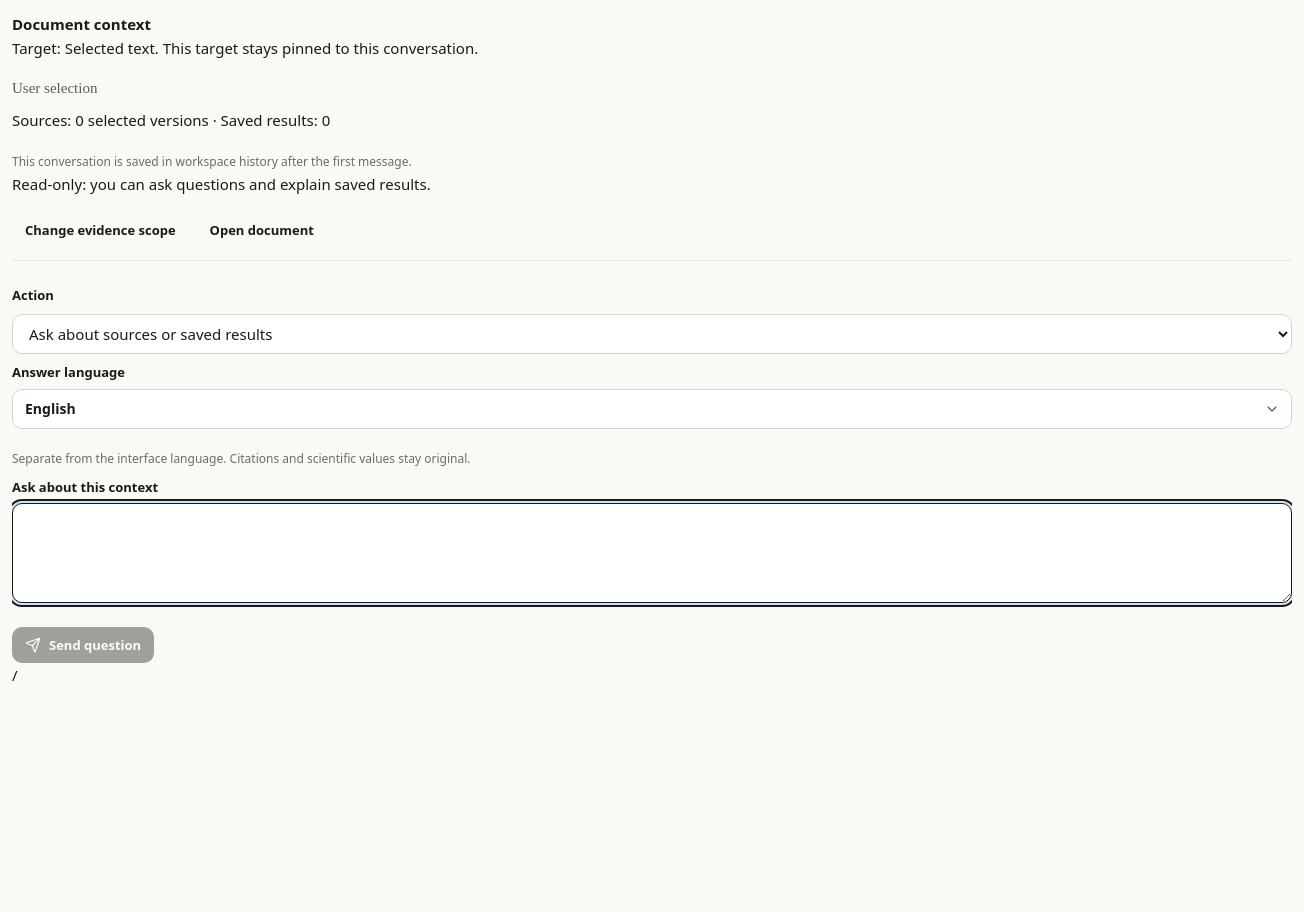
Scenario: reserves one first turn, disables duplicate sends, observes history and cancels explicitly
The image size is (1304, 912).
Step 1. Type "Explain" into the text box labelled "Ask about this context" → (652, 553), box [12, 503, 1292, 603]
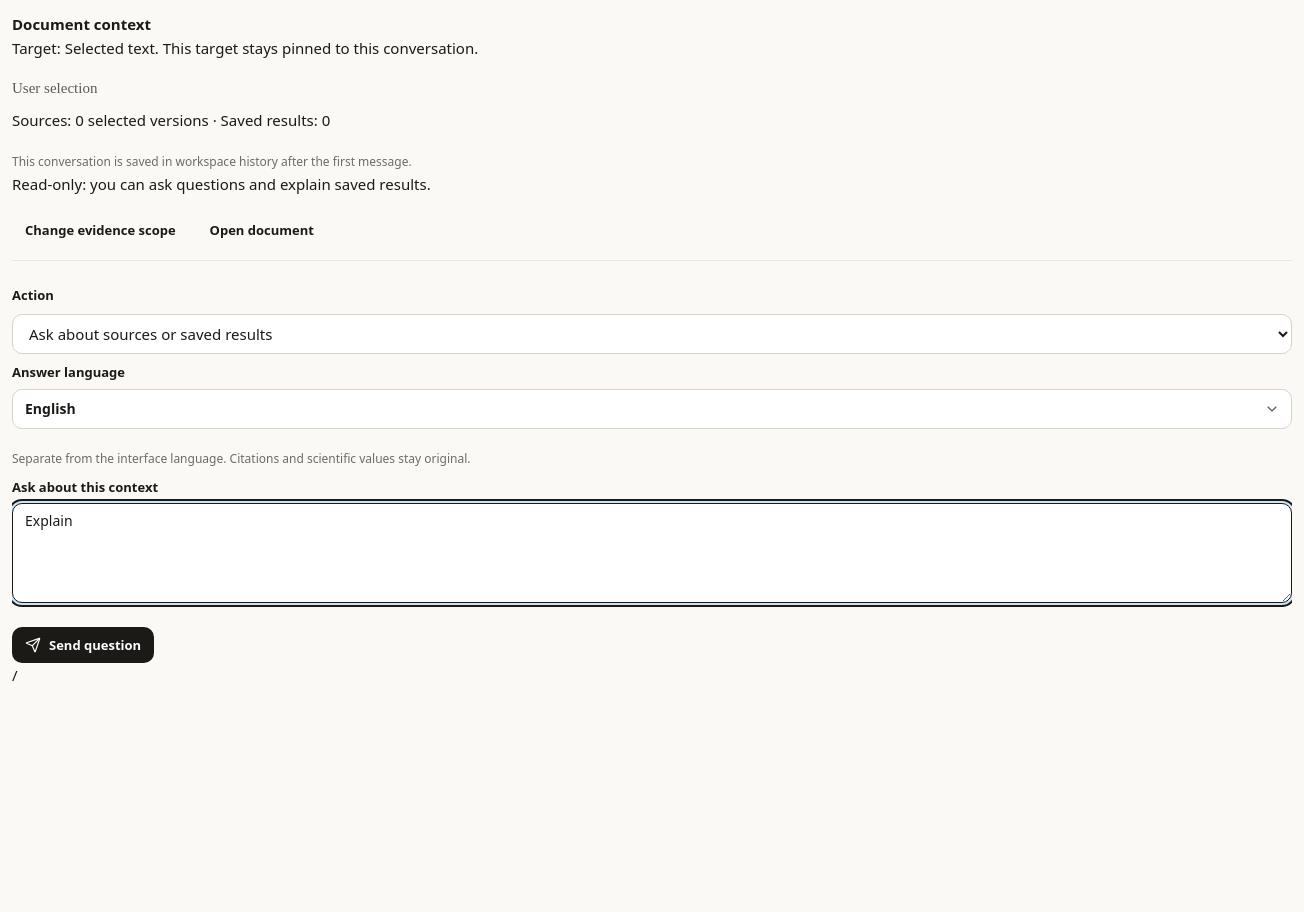
Step 2. Click the button "Send question" → click(83, 645), box [12, 627, 154, 663]
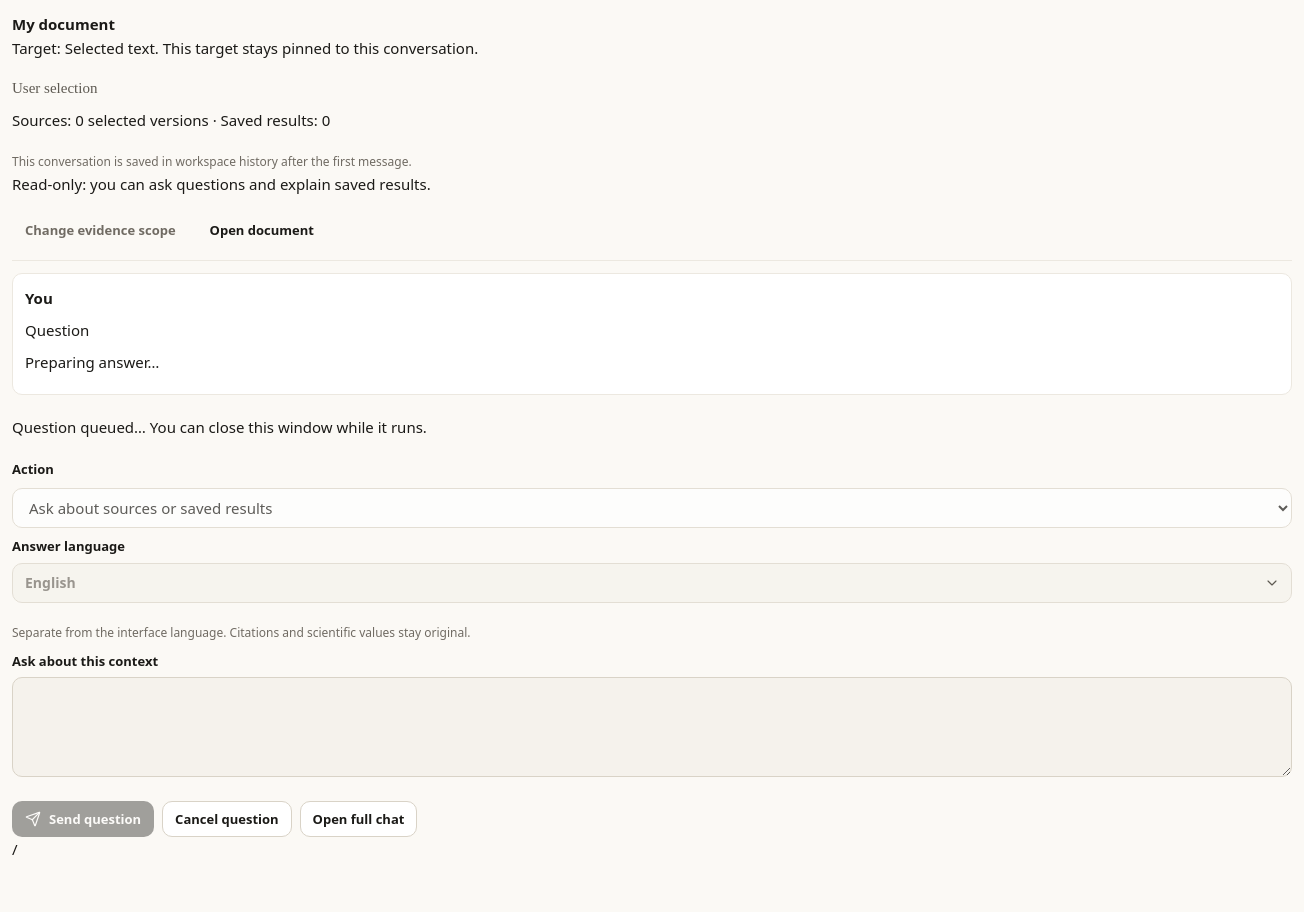
Check: the button "Cancel question" is shown
Check: the button "Send question" is disabled, box [12, 801, 154, 837]
Step 3. Click the button "Cancel question" → click(227, 819), box [162, 801, 292, 837]
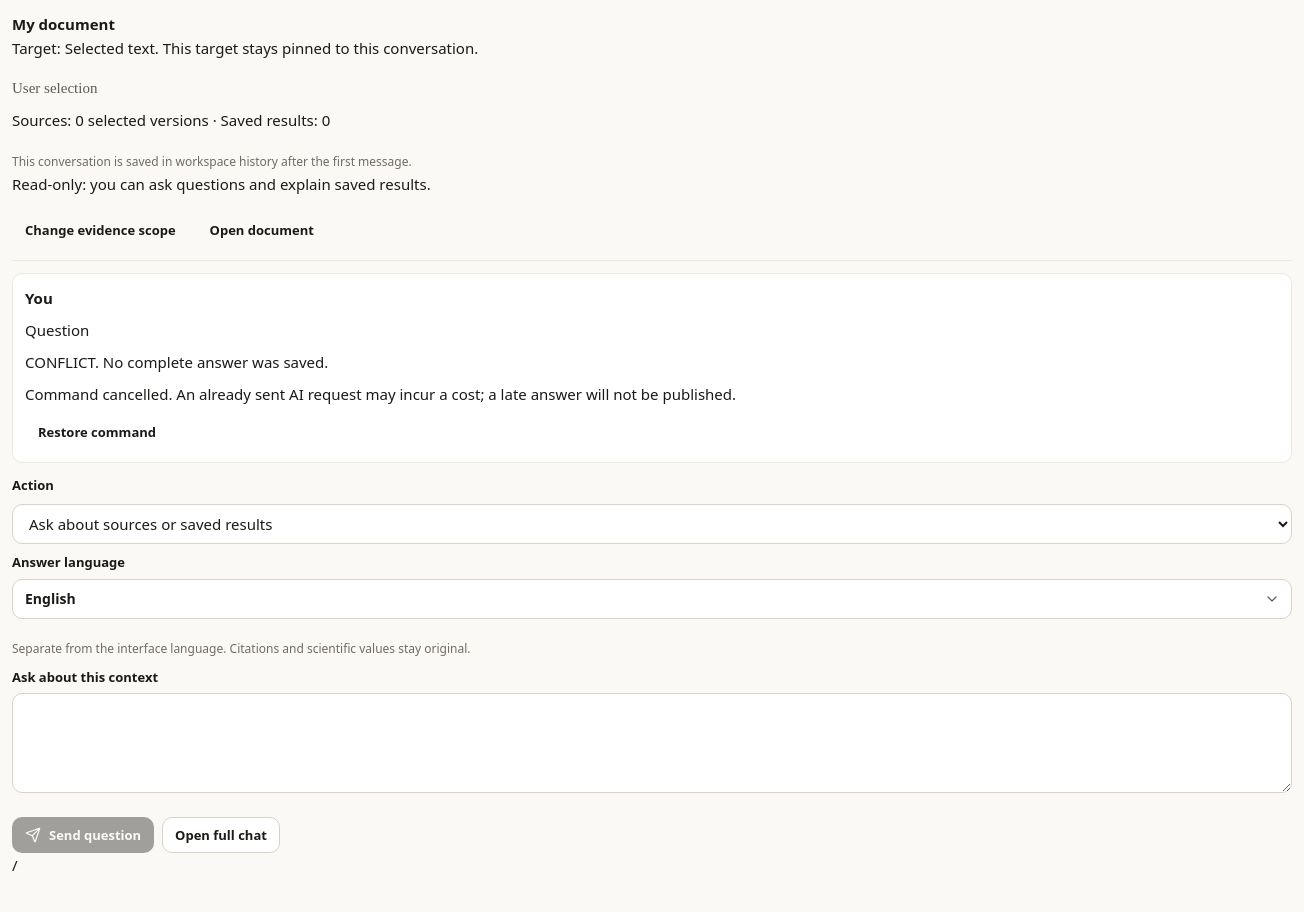
Check: the text "CONFLICT. No complete answer was saved." is shown, box [25, 352, 328, 372]
Step 4. Click the button "Open full chat" → click(221, 835), box [162, 817, 280, 853]
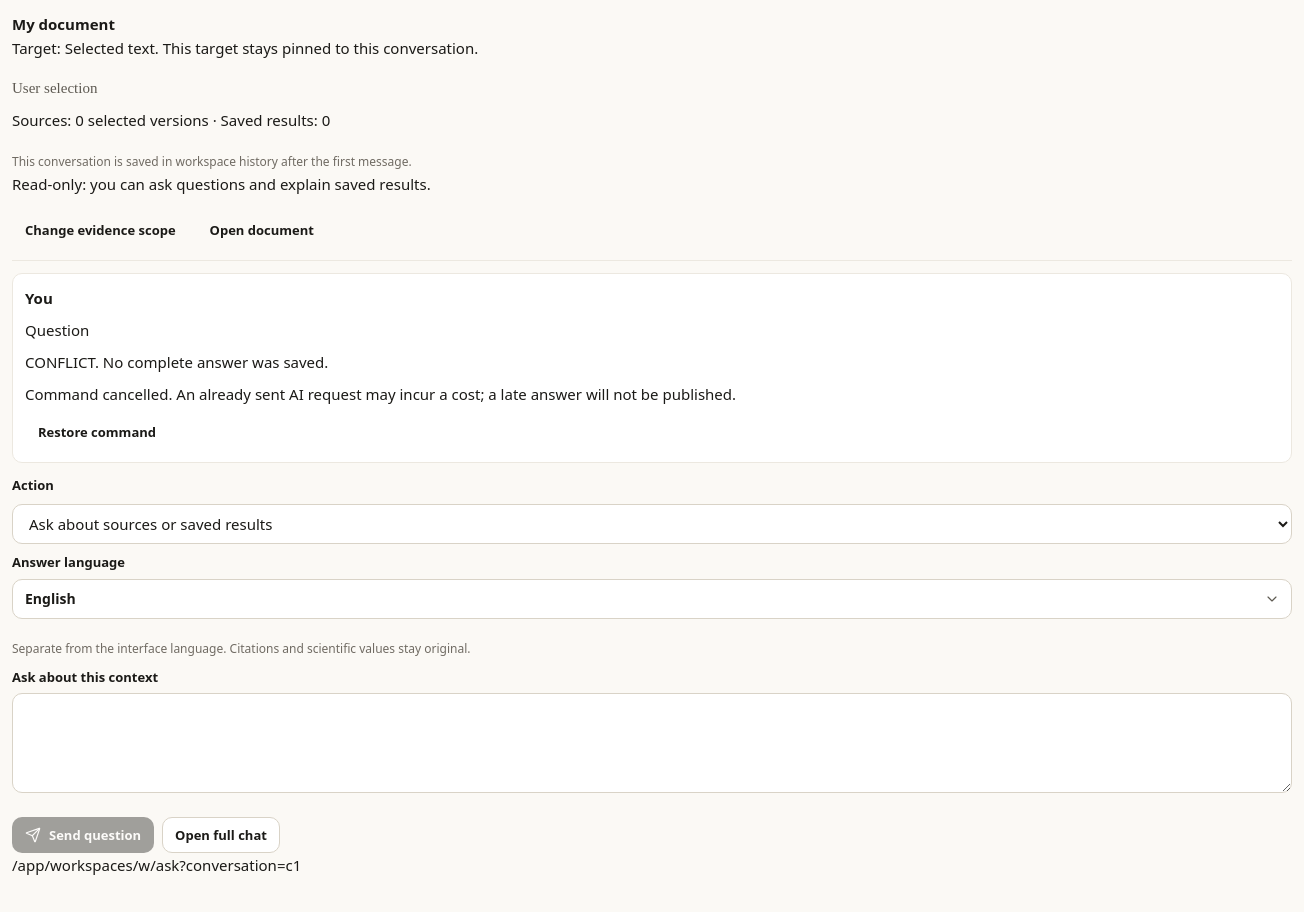
Check: the text with test id "location" reads "/app/workspaces/w/ask?conversation=c1", box [12, 855, 301, 875]
